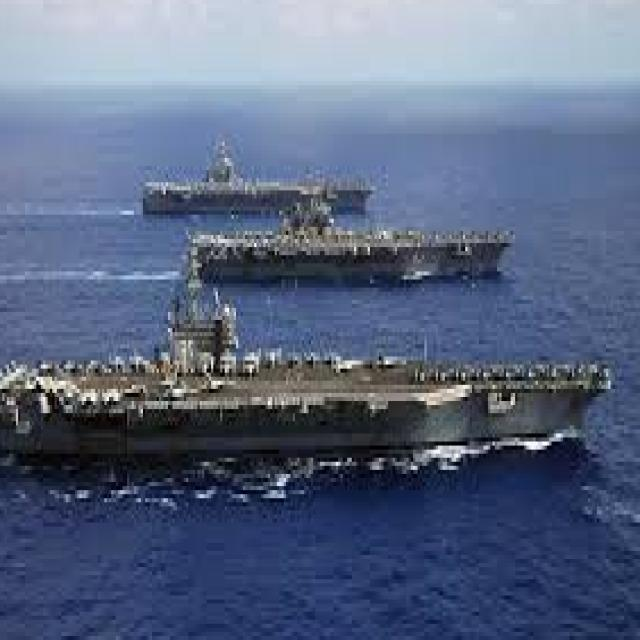navalvessels: (0, 247, 615, 466), (200, 208, 514, 264), (146, 138, 374, 214)
